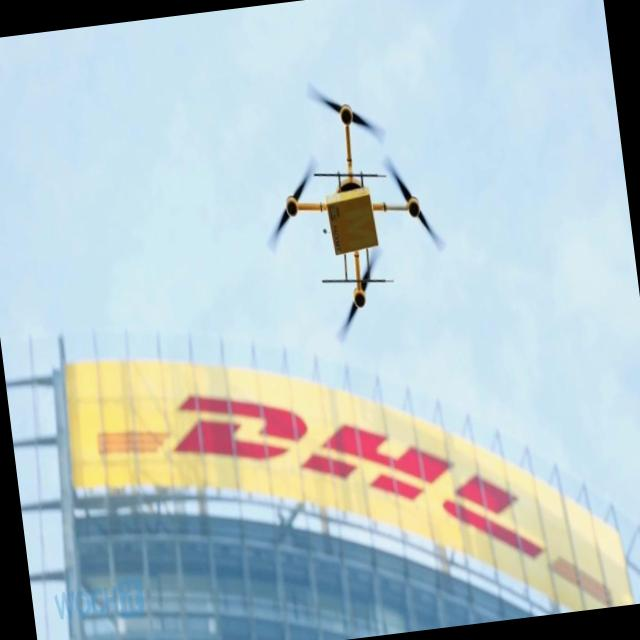drone: (255, 92, 434, 319)
